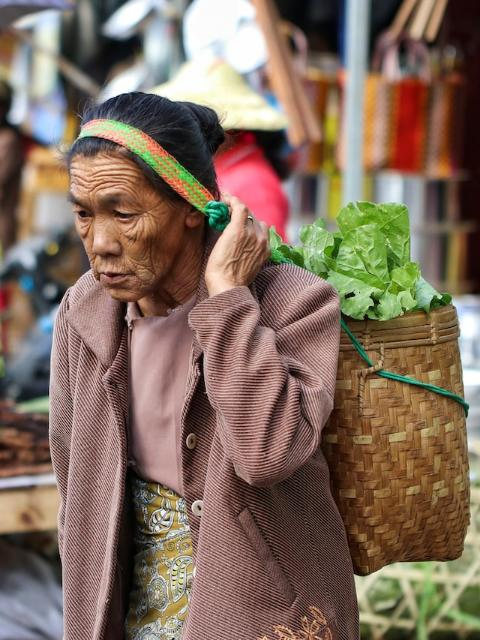crows_feet: (138, 206, 156, 228)
forehead: (70, 166, 132, 190)
masseter: (140, 248, 160, 280)
